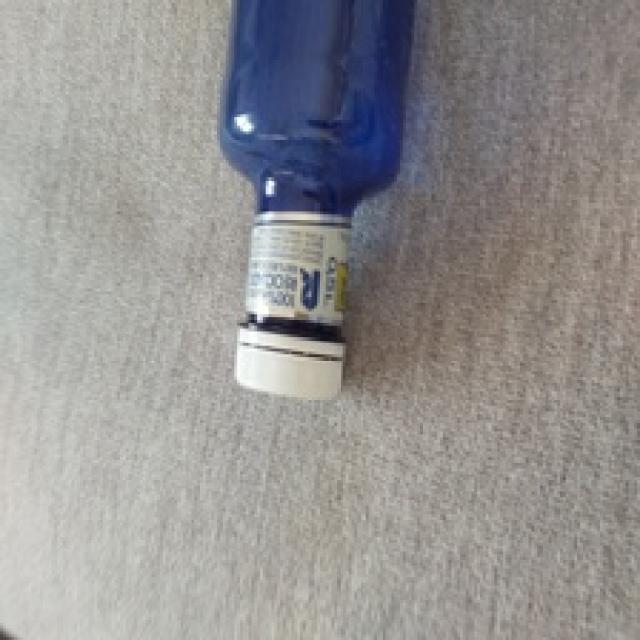Plastic: (214, 0, 420, 407)
